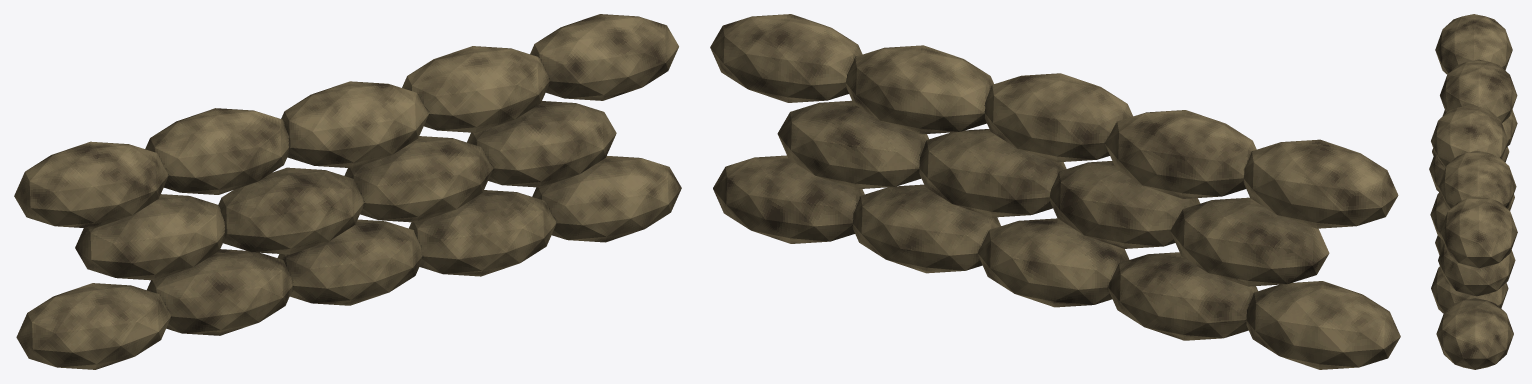
The model's file is city_sandbags.glb.
3 views of the same model, side by side, from view 1: azimuth 30°, elevation 25°; view 2: azimuth 150°, elevation 25°; view 3: azimuth 270°, elevation 25° (orthographic). The views are drawn at different scales.
Parts seen in each view (by area): view 1: city_sandbags; view 2: city_sandbags; view 3: city_sandbags.
Part boxes in pixels (x1,y1,x2,y2): city_sandbags: (14,14,681,369); city_sandbags: (710,14,1400,369); city_sandbags: (1429,14,1517,369).
Bounding box in the file's own units: 2.54 × 0.79 × 0.4117.
Materials: 1 (1 with a texture image).
